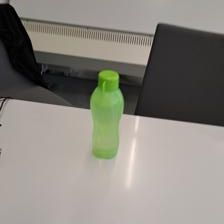bottle: (87, 66, 125, 160)
